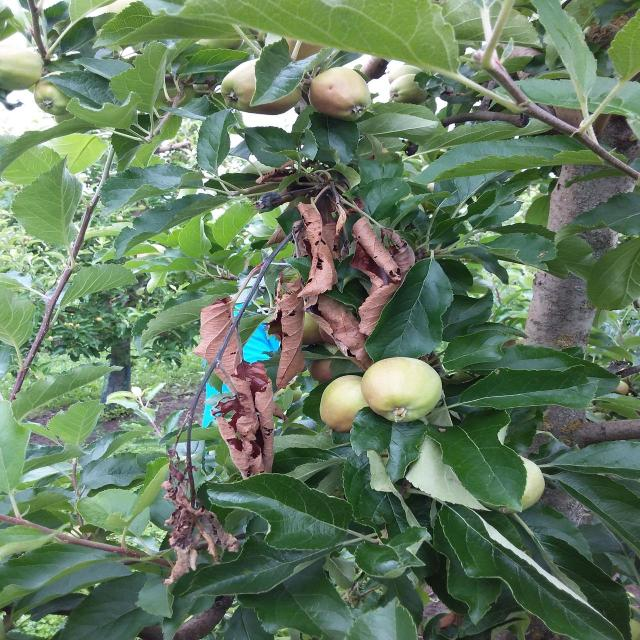-FireBlight-: (148, 157, 427, 596)
